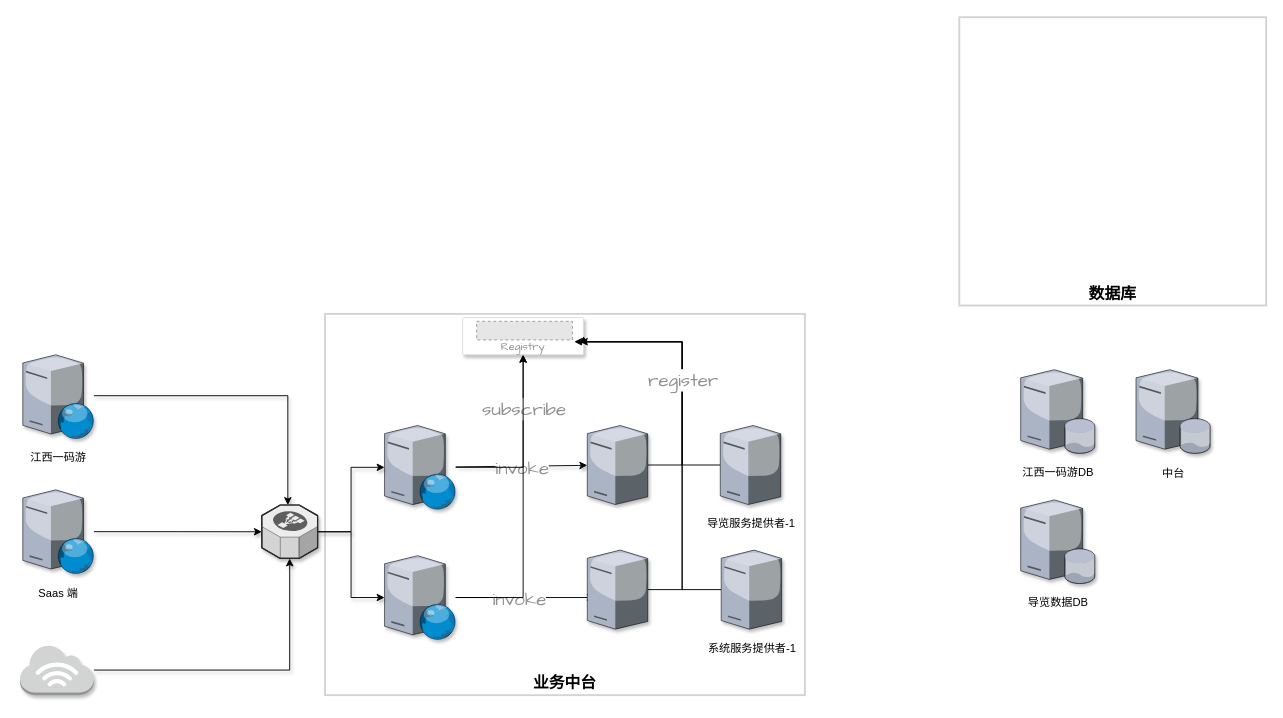
Some shapes in this 1283 by 718 pixel diagram are drawn without their labels. Grey dashed boxes stand in for pictures. Here are the shapes that lost their labels. From the top down, the centre of each, then its label:
At point (420, 468): "Open API".
At point (618, 466): "导览服务提供者-0".
At point (290, 532): "nginx".
At point (420, 598): "中台后台".
At point (618, 590): "系统服务提供者-0".
